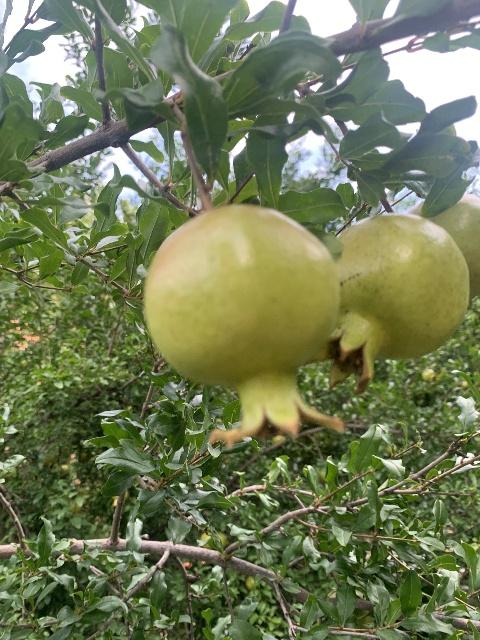mid-growth: (142, 204, 348, 449), (324, 211, 471, 394), (421, 369, 440, 385)
